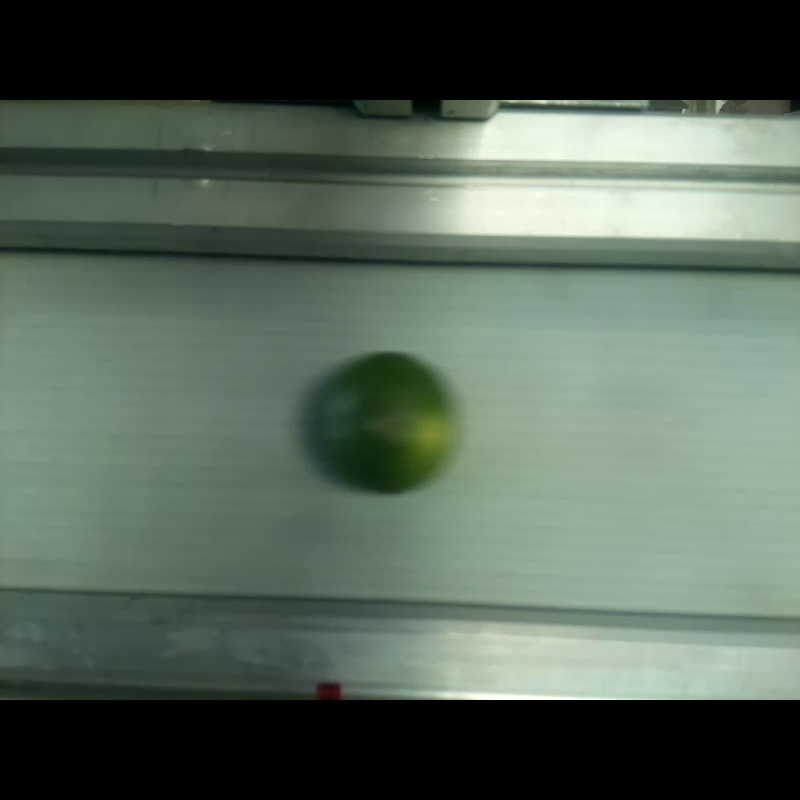lime: (314, 351, 454, 493)
